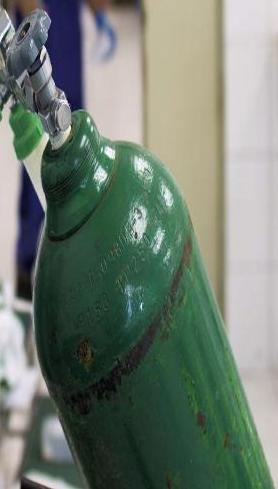cylinder: (0, 1, 278, 489)
